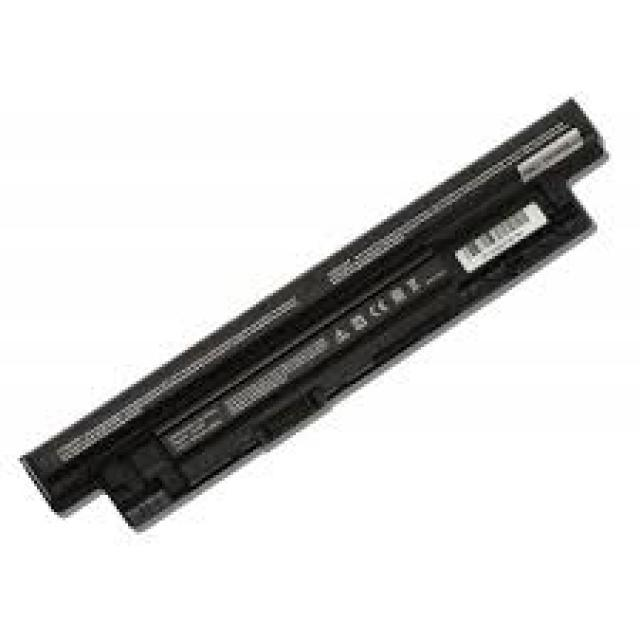battery: (15, 97, 608, 532)
